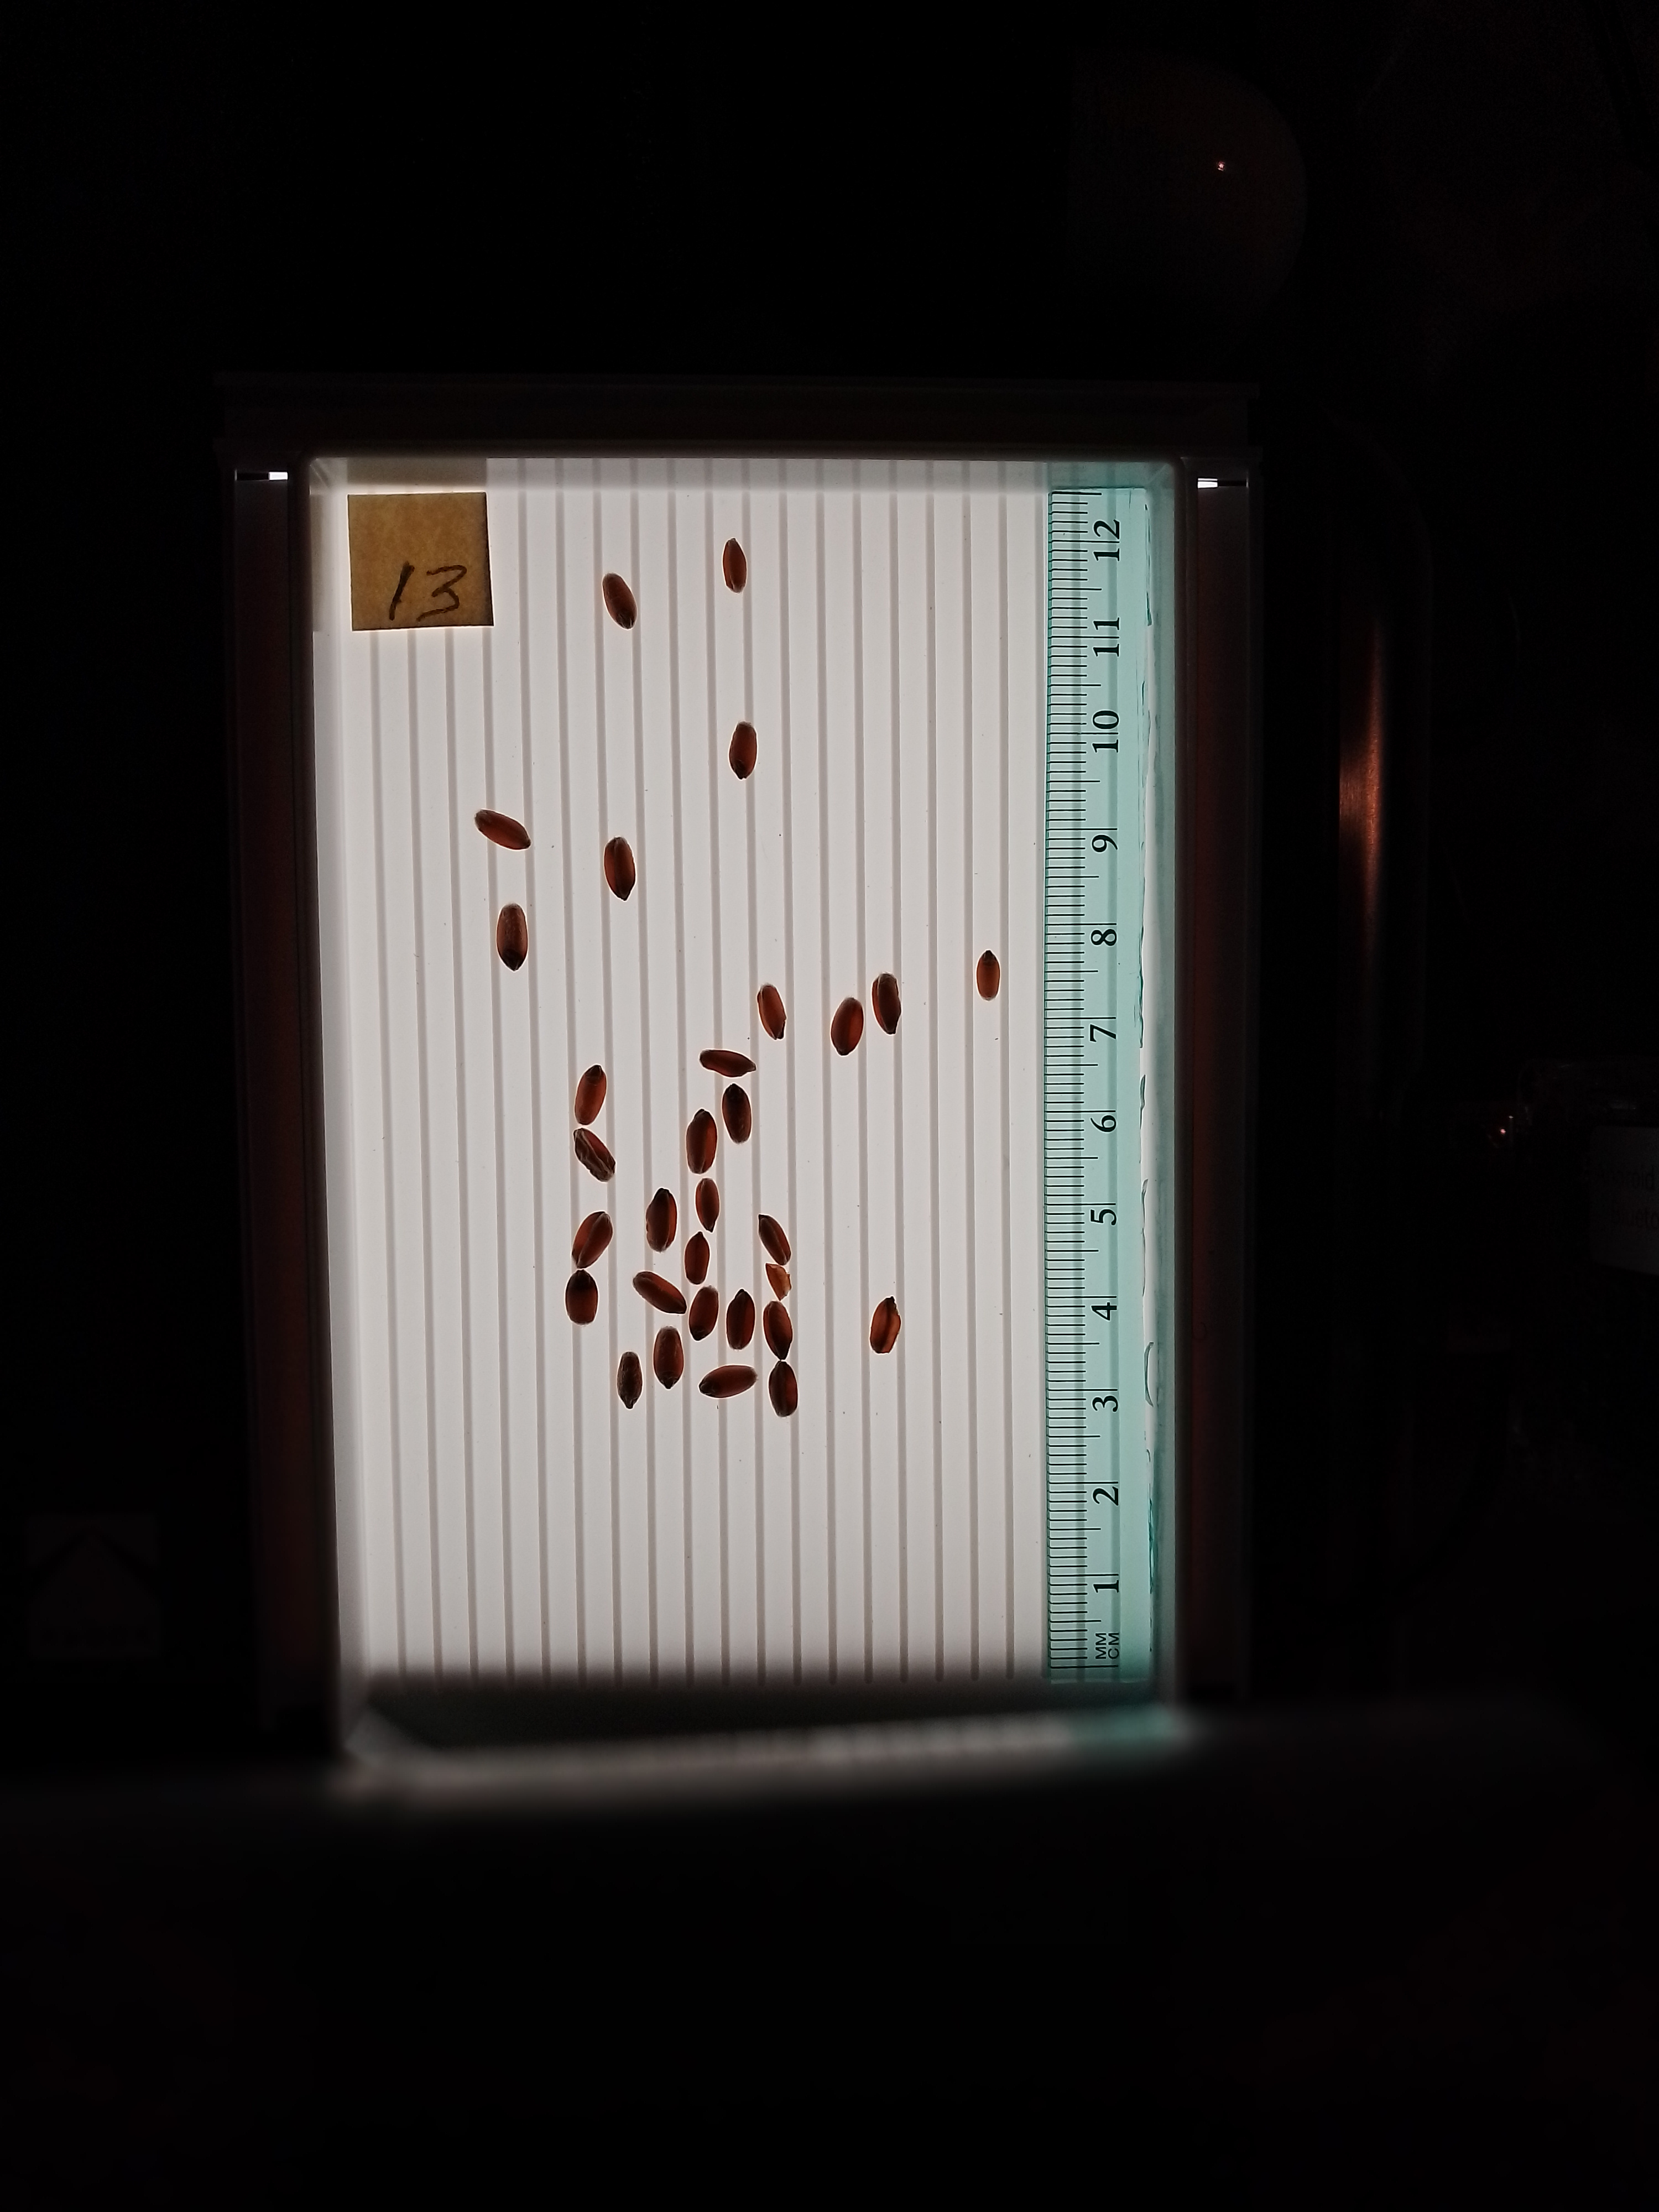seed mask: (570, 1211, 613, 1268), (631, 1271, 687, 1315), (474, 808, 532, 850), (497, 902, 530, 972), (573, 1129, 615, 1183), (603, 836, 636, 902), (645, 1188, 678, 1252), (687, 1108, 718, 1176), (601, 573, 638, 629), (699, 1366, 758, 1399), (868, 1296, 901, 1355), (831, 996, 864, 1055), (565, 1270, 599, 1325), (575, 1064, 606, 1125), (721, 1083, 753, 1144), (767, 1360, 800, 1418), (653, 1325, 683, 1388), (762, 1301, 793, 1360), (727, 1289, 756, 1350), (871, 974, 901, 1035), (728, 721, 756, 780), (758, 1214, 791, 1263), (699, 1049, 756, 1076), (688, 1287, 718, 1341), (758, 984, 786, 1040), (721, 538, 748, 594), (615, 1353, 641, 1409), (683, 1231, 709, 1285), (695, 1177, 720, 1231), (976, 948, 1000, 1001), (765, 1263, 793, 1301)
